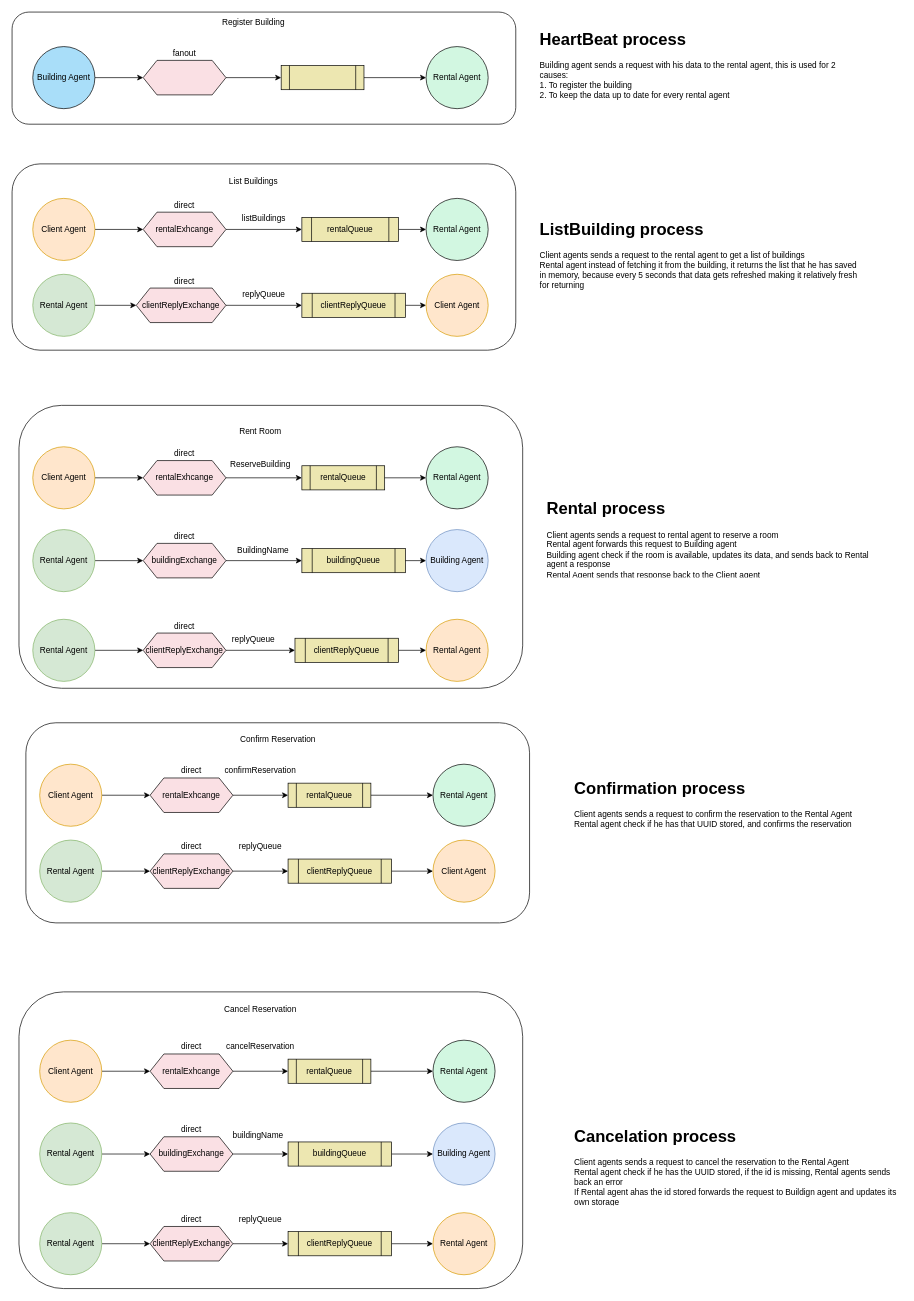
The diagram is 914 pixels wide and 1301 high, and some of its shapes have lost their labels. Each missing label, with the centre of its shape:
presenceExchange: pixel 184 77
presenceQueue: pixel 322 77
